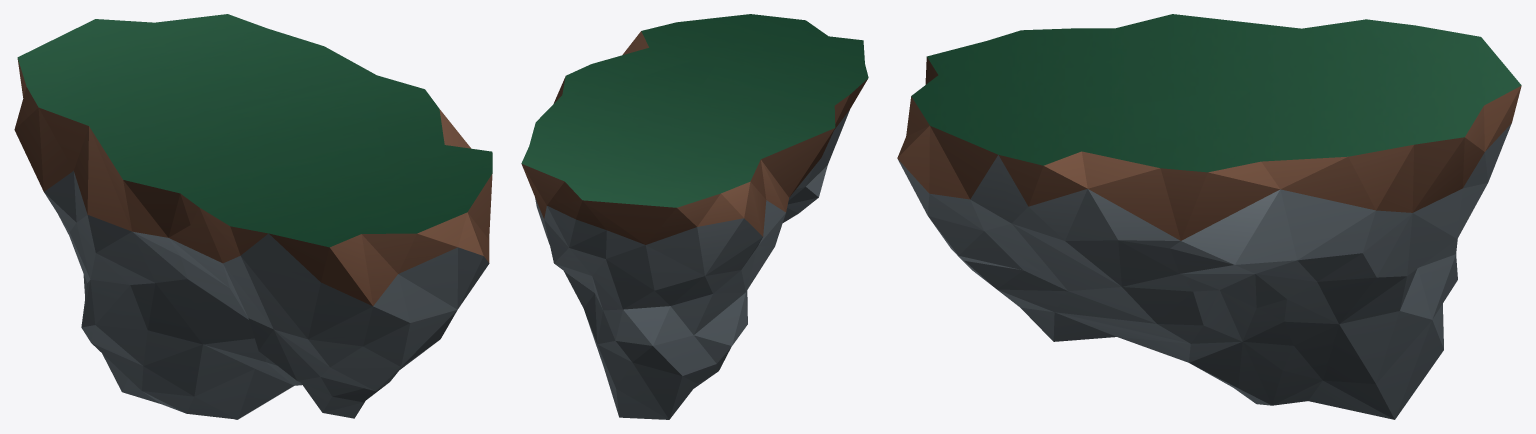
The model's file is island medium.fbx.
3 renders of one model, left to right at view 1: azimuth 30°, elevation 25°; view 2: azimuth 150°, elevation 25°; view 3: azimuth 270°, elevation 25°, orthographic. The views are drawn at different scales.
Parts seen in each view (by area): view 1: Cube.001; view 2: Cube.001; view 3: Cube.001.
Part boxes in pixels (bbox=[...]): Cube.001: bbox=[14, 14, 492, 419]; Cube.001: bbox=[521, 14, 868, 419]; Cube.001: bbox=[897, 14, 1521, 419].
Size of the model in its own units: 702 by 658 by 1141.
